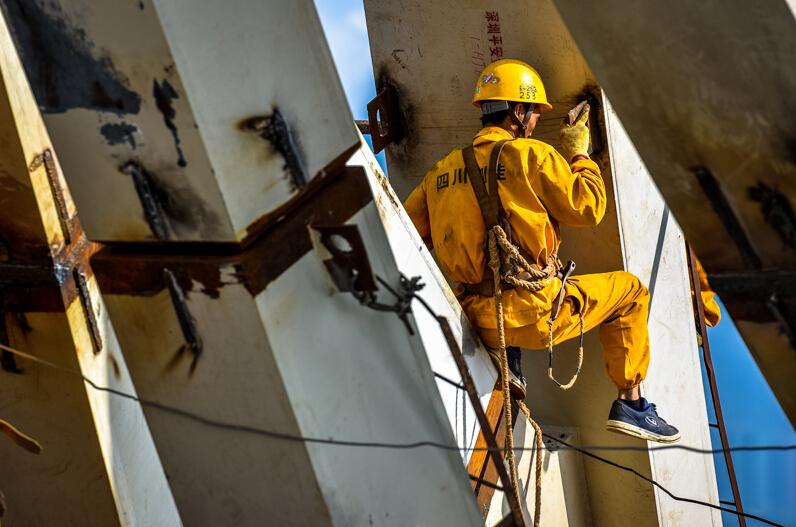helmet: (473, 61, 556, 113)
